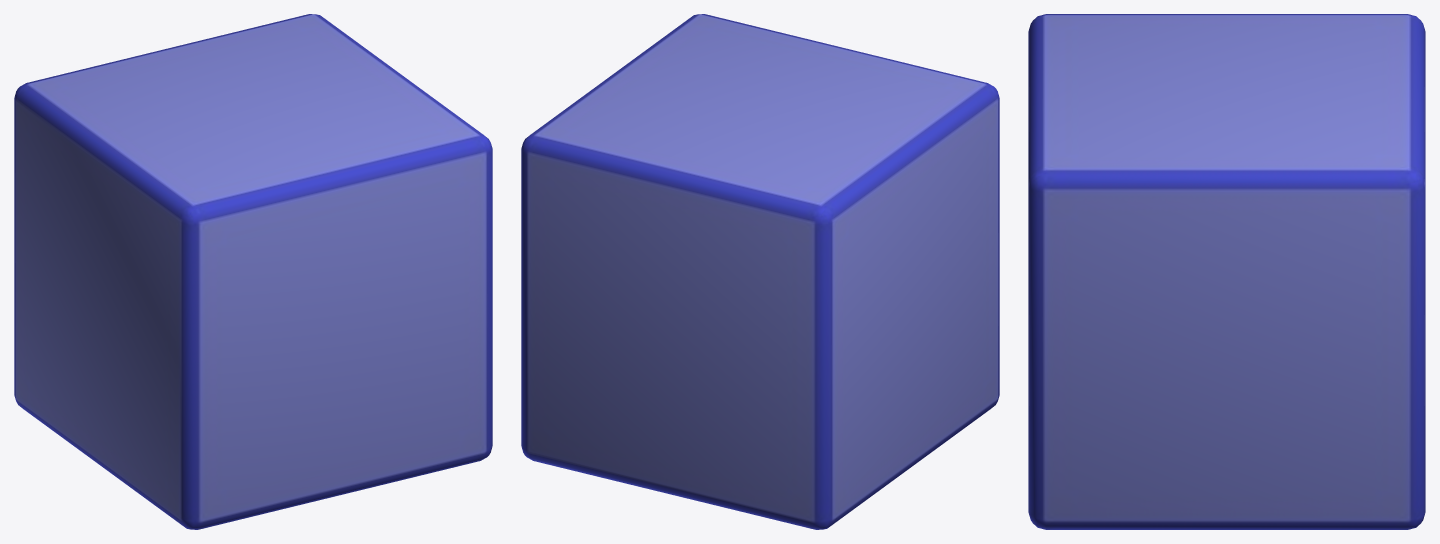
Rendered from player.obj.
3 renders of one model, left to right at view 1: azimuth 30°, elevation 25°; view 2: azimuth 150°, elevation 25°; view 3: azimuth 270°, elevation 25°, orthographic. The views are drawn at different scales.
Visible parts, largest first — view 1: Cube; view 2: Cube; view 3: Cube.
Boxes of the visible parts, x1,y1,x2,y2 form: Cube: (14, 14, 492, 529); Cube: (521, 14, 999, 529); Cube: (1028, 14, 1425, 529).
Size of the model in its own units: 2 by 2 by 2.
